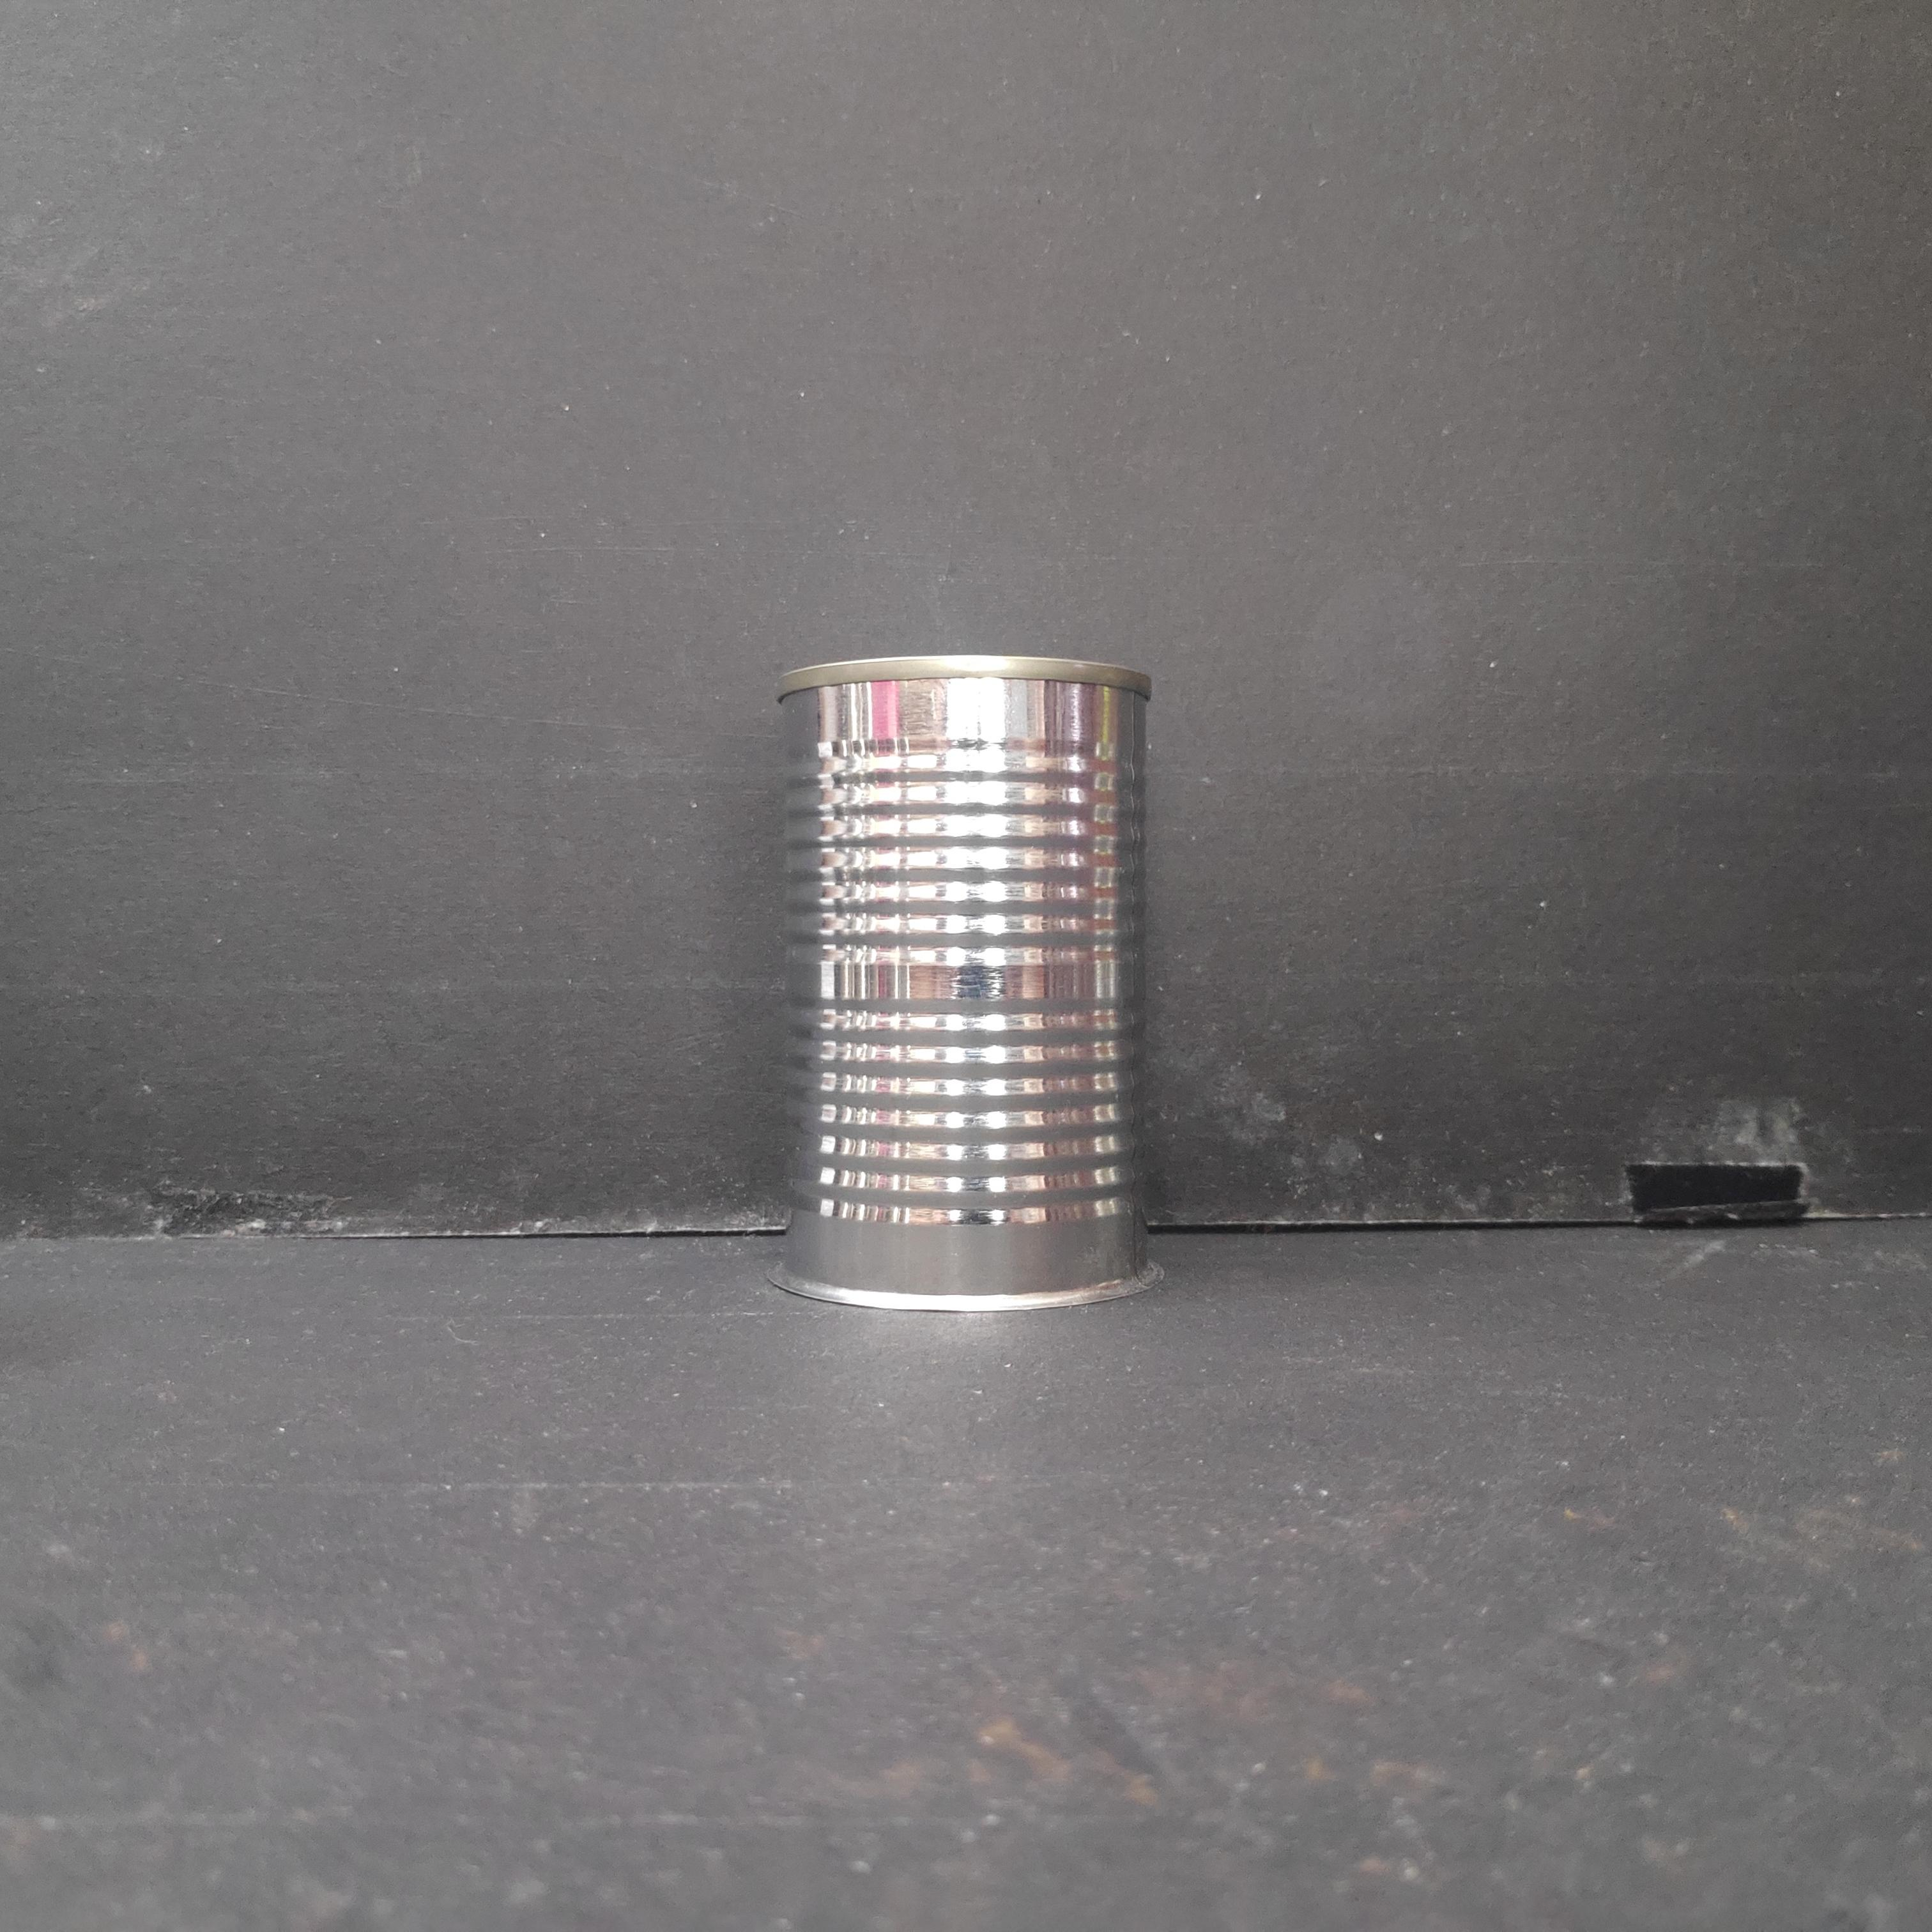No defect: (765, 652, 1164, 1310)
